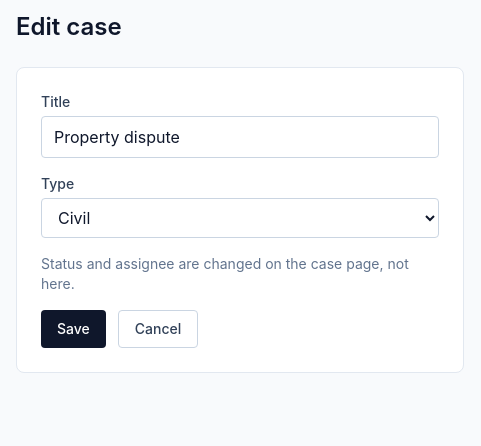
Test: EditCase › koi aur pehle save kar chuka ho to API ka 409 message dikhata hai
Expected: the field labelled "Title" is shown, [41,116,439,158]
Click the button "Save". click: (73,329)
box: [41,310,106,348]
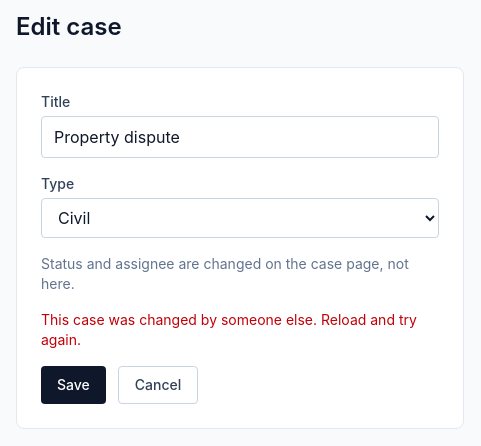
Expected: the text "This case was changed by someone else. Reload and try again." is shown, [41,310,439,350]
